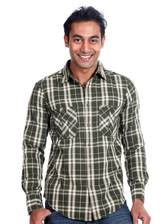clothoes: (19, 58, 161, 214)
